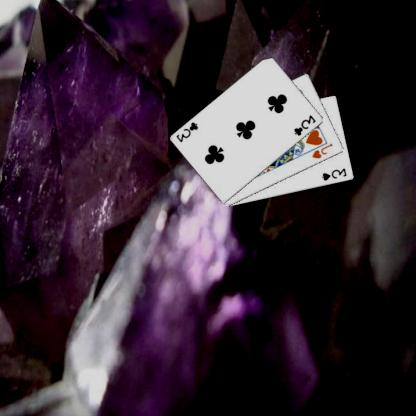3C: (175, 119, 201, 144), (293, 113, 319, 137)
3S: (321, 165, 350, 182)
JH: (311, 140, 336, 160)
